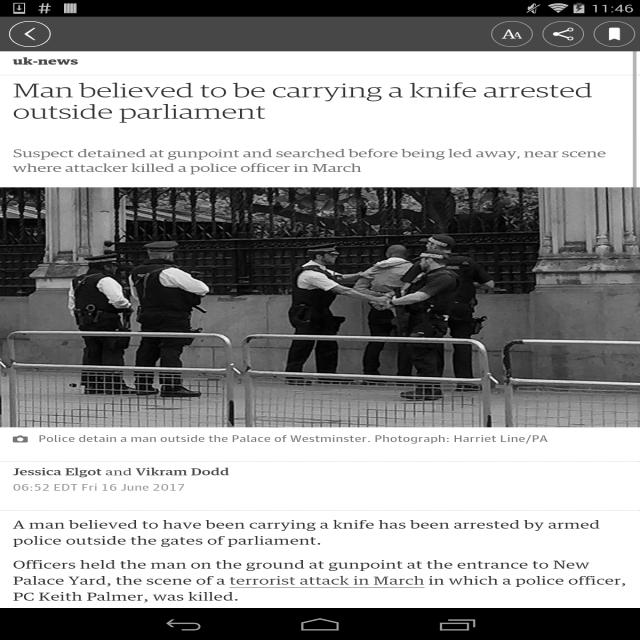ImageView: (593, 21, 636, 47), (9, 21, 51, 47), (491, 21, 533, 47), (542, 21, 584, 47)
